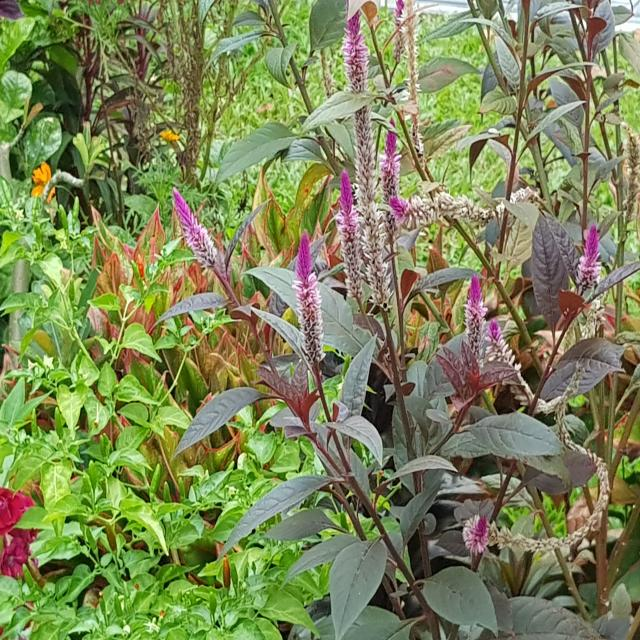Celosia-Argentea: (340, 10, 399, 307), (316, 155, 372, 313), (280, 223, 335, 377), (175, 185, 242, 286), (458, 504, 602, 550), (478, 312, 537, 422), (446, 248, 489, 389), (564, 198, 607, 308), (380, 106, 414, 227)
